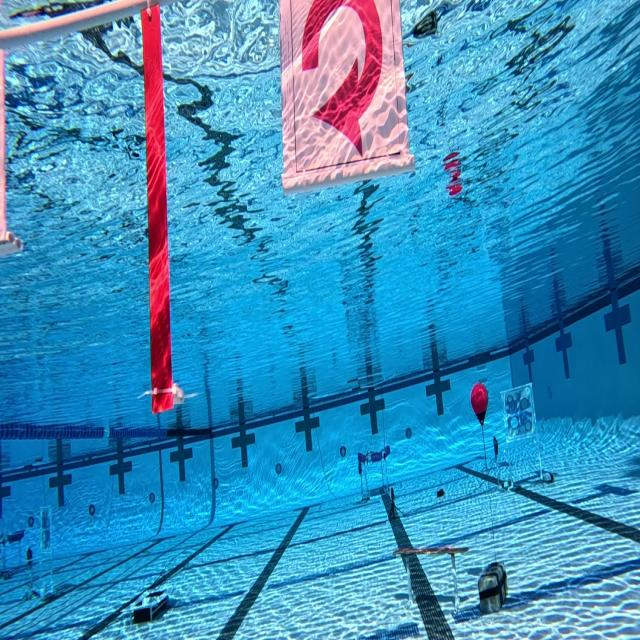red_side: (279, 0, 415, 193)
